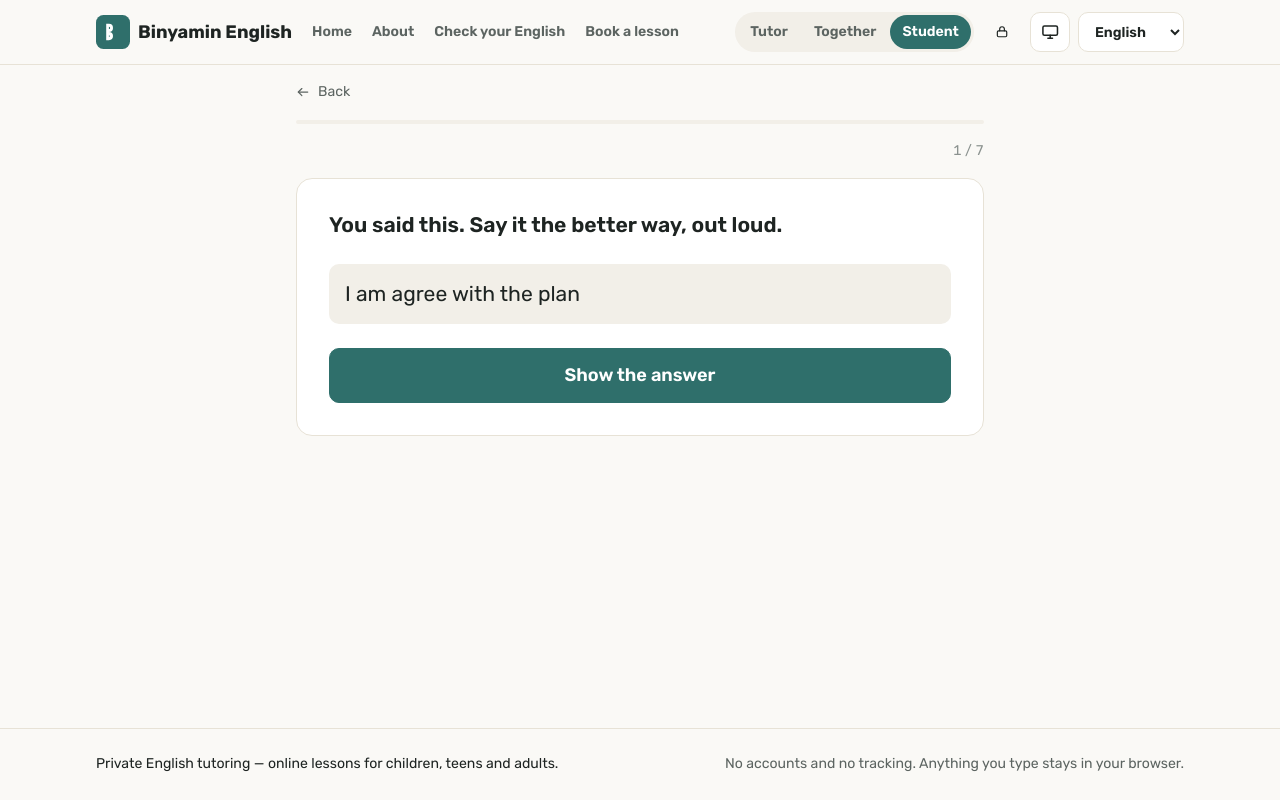
Scenario: the learner can do the whole set alone, on a phone › asks for a word from its MEANING, never by showing the word
expect the text "You said this. Say it the better way, out loud." is shown: met, box x1=329 y1=212 x2=782 y2=237
Click the button "Show the answer" at {"x": 640, "y": 376}, box x1=329 y1=348 x2=951 y2=403
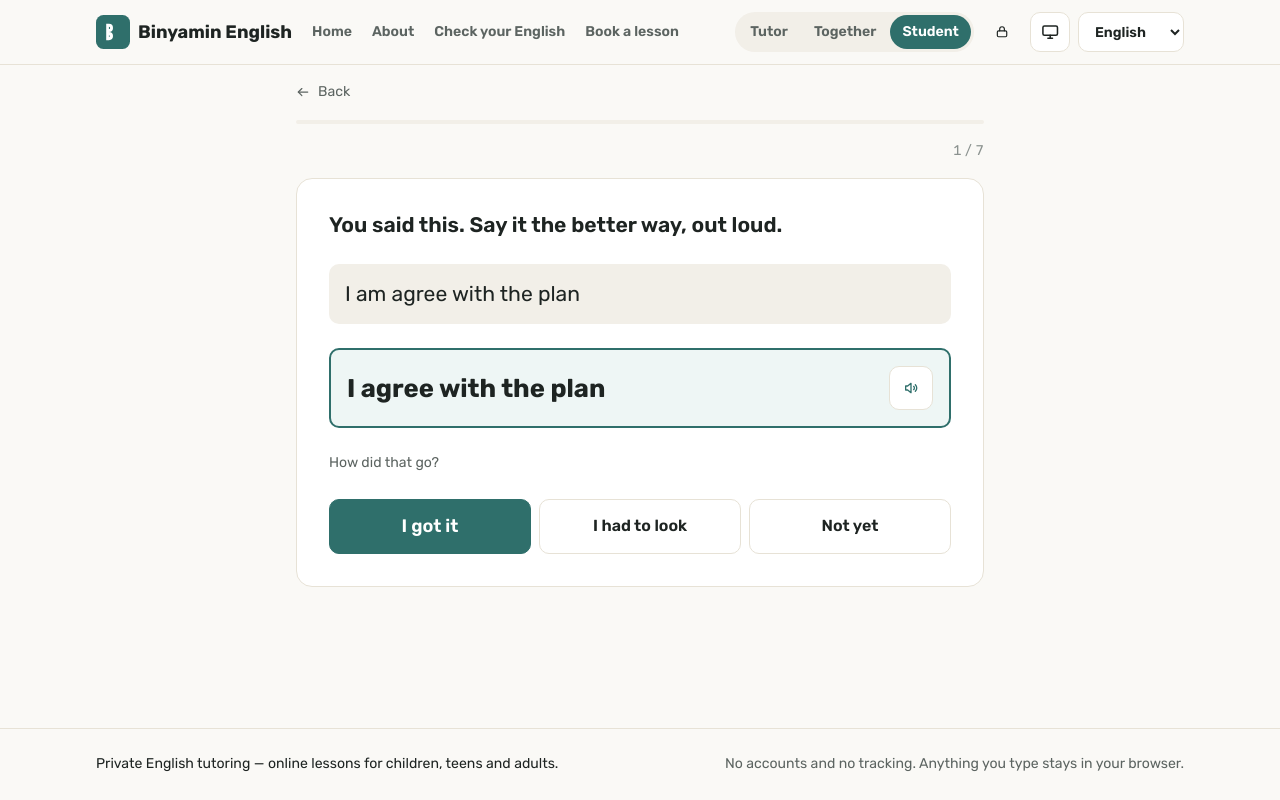
Click the button "I got it" at {"x": 430, "y": 526}, box x1=329 y1=499 x2=531 y2=554
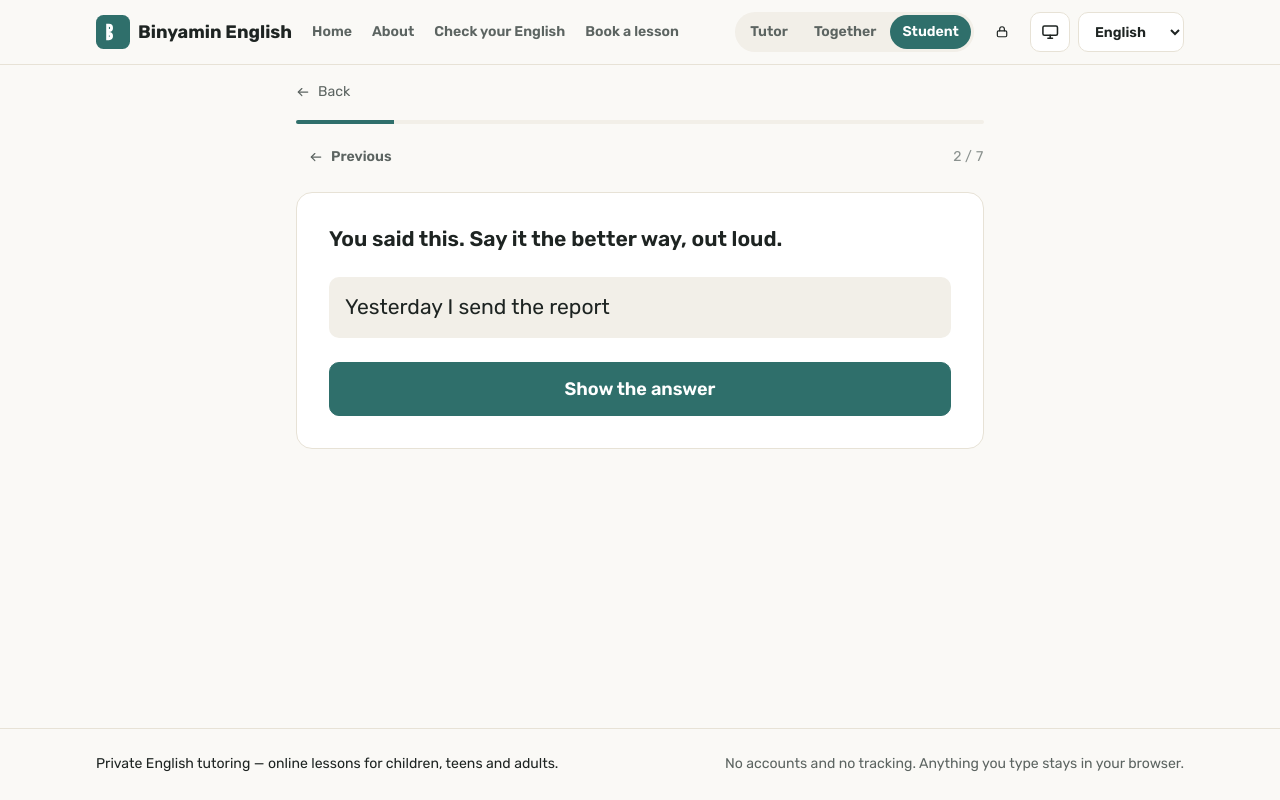
Click the button "Show the answer" at {"x": 640, "y": 389}, box x1=329 y1=362 x2=951 y2=416
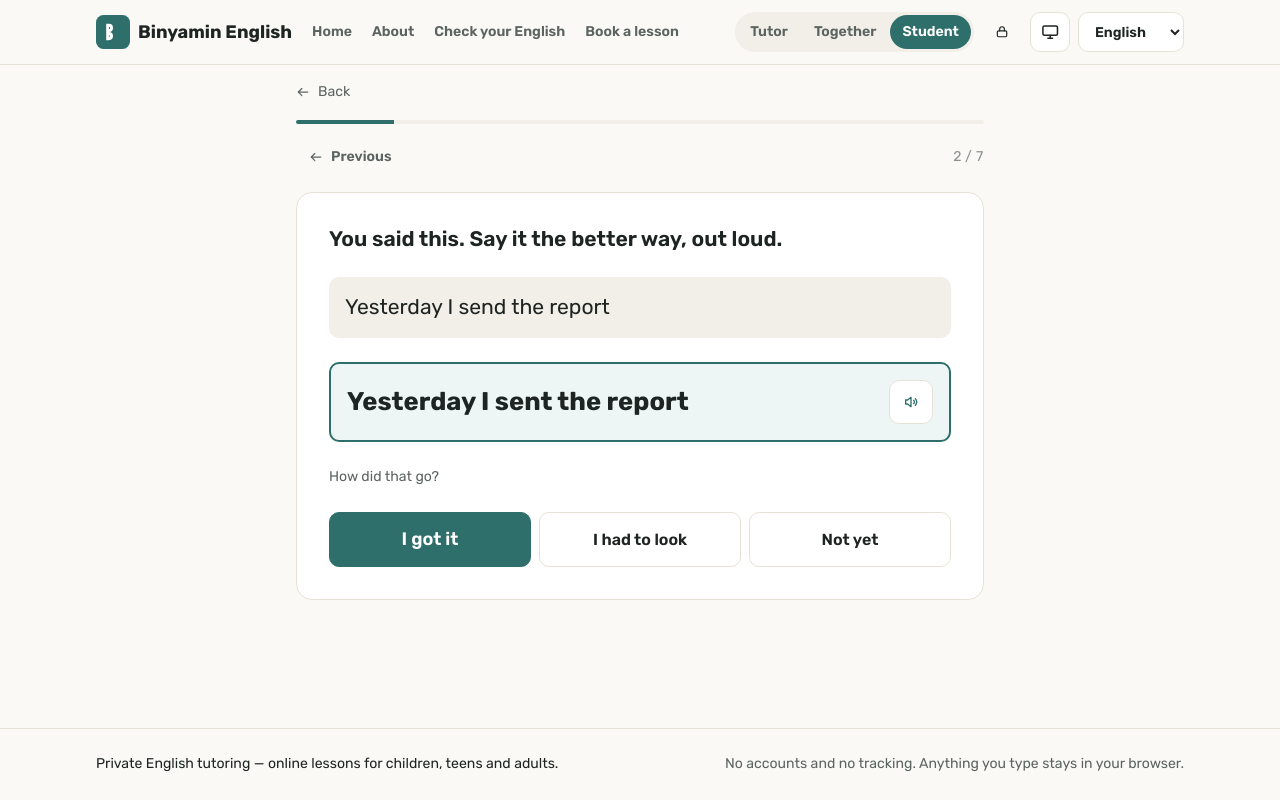
Click the button "I got it" at {"x": 430, "y": 540}, box x1=329 y1=512 x2=531 y2=567
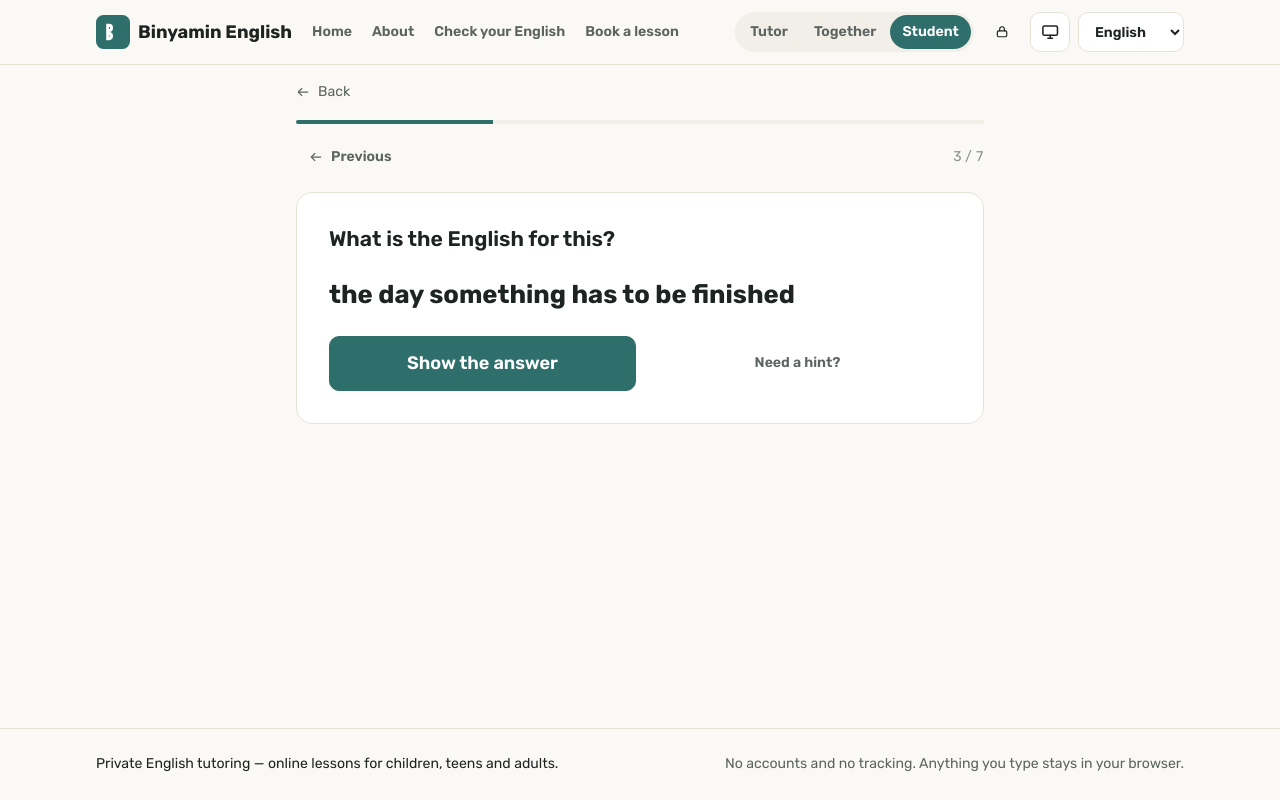
expect the text "What is the English for this?" is shown: met, box x1=329 y1=226 x2=615 y2=250
